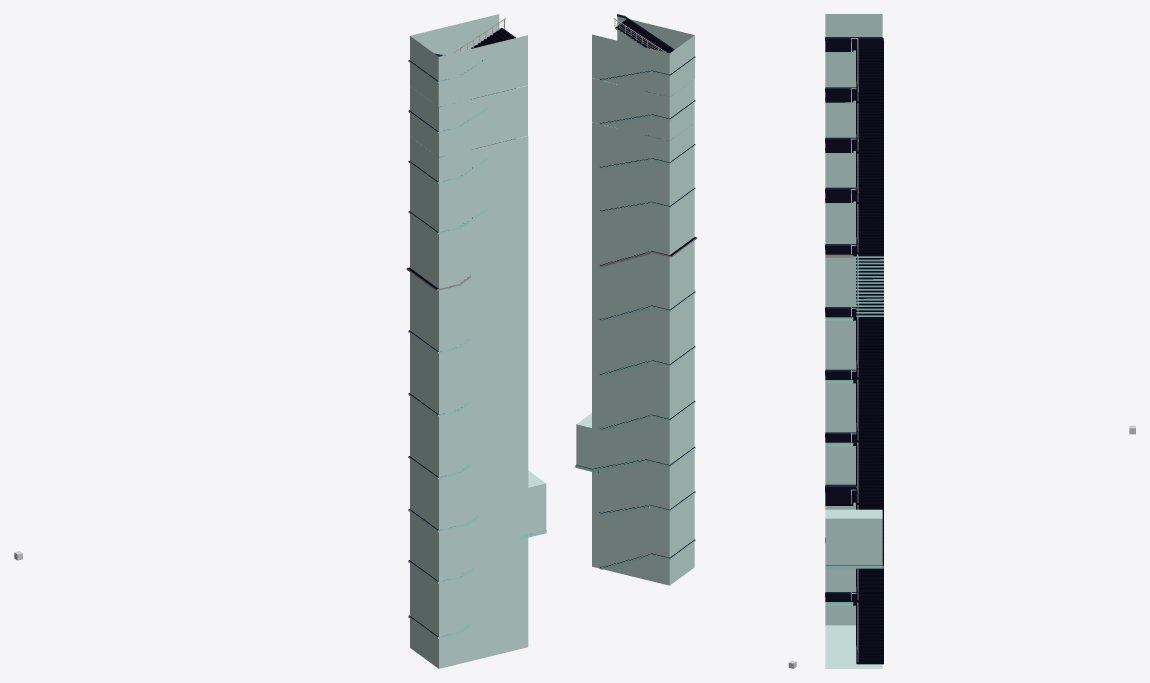
The model's file is UTypeStair_L.fbx.
3 views of the same model, side by side, from view 1: azimuth 30°, elevation 25°; view 2: azimuth 150°, elevation 25°; view 3: azimuth 270°, elevation 25° (orthographic). The views are drawn at different scales.
Visible parts, largest first — view 1: Srair_Passage_1F, Srair_Passage_B1F, Srair_Passage_4F, Srair_Passage_8F, Srair_Passage_3F, Srair_Passage_2F, Srair_Passage_6F, Srair_Passage_5F, Srair_Passage_7F; view 2: Srair_Passage_1F, Srair_Passage_B1F, Srair_Passage_4F, Srair_Passage_3F, Srair_Passage_8F, Srair_Passage_2F, Srair_Passage_7F, Srair_Passage_6F, Srair_Passage_5F, UTypeStair_8F, UTypeStair_4F; view 3: Srair_Passage_1F, Srair_Passage_B1F, UTypeStair_8F, UTypeStair_2F01, UTypeStair_B2F_01, UTypeStair_3F01, UTypeStair_1F01, UTypeStair_4F, UTypeStair_6F, UTypeStair_5F, UTypeStair_7F, Srair_Passage_8F (+8 smaller).
Boxes of the visible parts, <box> form: Srair_Passage_1F: <box>410,425,546,556</box>; Srair_Passage_B1F: <box>410,535,528,668</box>; Srair_Passage_4F: <box>410,236,528,326</box>; Srair_Passage_8F: <box>410,14,527,106</box>; Srair_Passage_3F: <box>410,304,528,388</box>; Srair_Passage_2F: <box>410,367,528,446</box>; Srair_Passage_6F: <box>410,136,528,207</box>; Srair_Passage_5F: <box>410,186,528,257</box>; Srair_Passage_7F: <box>410,85,527,157</box>; Srair_Passage_1F: <box>576,373,694,487</box>; Srair_Passage_B1F: <box>592,470,694,585</box>; Srair_Passage_4F: <box>592,209,694,287</box>; Srair_Passage_3F: <box>592,269,694,342</box>; Srair_Passage_8F: <box>592,14,694,96</box>; Srair_Passage_2F: <box>592,323,694,392</box>; Srair_Passage_7F: <box>592,78,694,140</box>; Srair_Passage_6F: <box>592,122,694,184</box>; Srair_Passage_5F: <box>592,166,694,228</box>; UTypeStair_8F: <box>599,18,695,81</box>; UTypeStair_4F: <box>599,237,697,266</box>; Srair_Passage_1F: <box>825,403,882,565</box>; Srair_Passage_B1F: <box>825,568,882,668</box>; UTypeStair_8F: <box>825,38,883,103</box>; UTypeStair_2F01: <box>825,370,883,442</box>; UTypeStair_B2F_01: <box>825,592,883,664</box>; UTypeStair_3F01: <box>825,307,883,379</box>; UTypeStair_1F01: <box>825,432,883,504</box>; UTypeStair_4F: <box>825,244,883,316</box>; UTypeStair_6F: <box>825,138,883,203</box>; UTypeStair_5F: <box>825,189,883,254</box>; UTypeStair_7F: <box>825,88,883,153</box>; Srair_Passage_8F: <box>825,14,882,64</box>.
Bounding box in the file's own units: 21.99 × 34.66 × 15.71.
